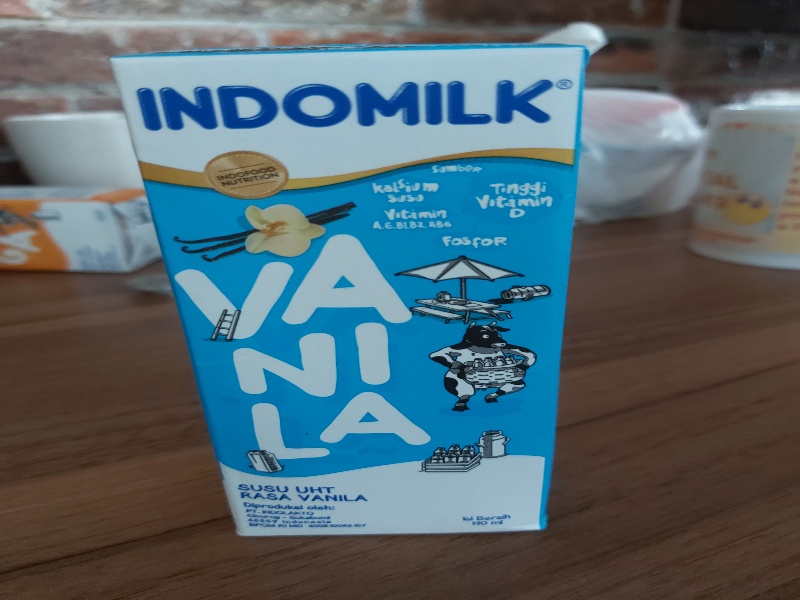vanilla: (110, 43, 589, 535)
